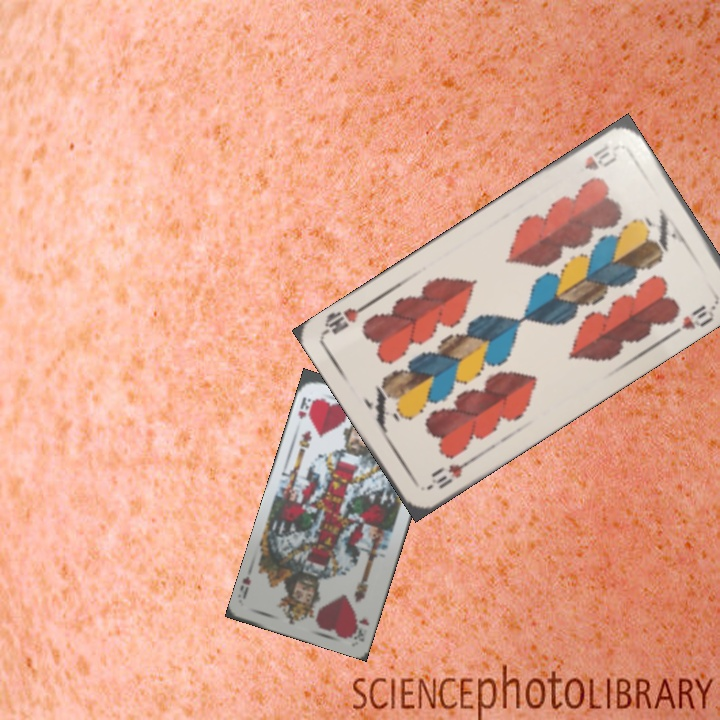H10: (423, 454, 476, 492), (580, 140, 620, 173)
HK: (348, 614, 372, 643), (294, 392, 313, 422)
